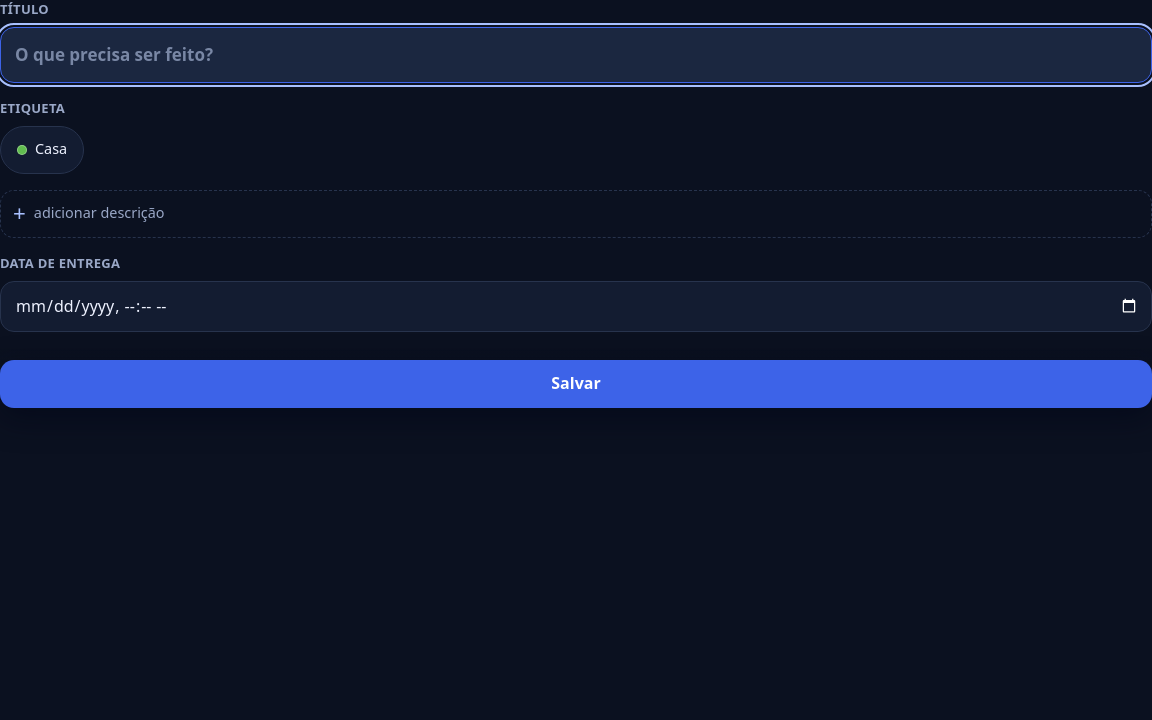
Test case: CardForm › confirmação antes de salvar › opens the dialog with title and board instead of saving (FR-006)
Type "Comprar leite" into the field labelled "Título" at {"x": 576, "y": 55}, box [0,27,1151,83]
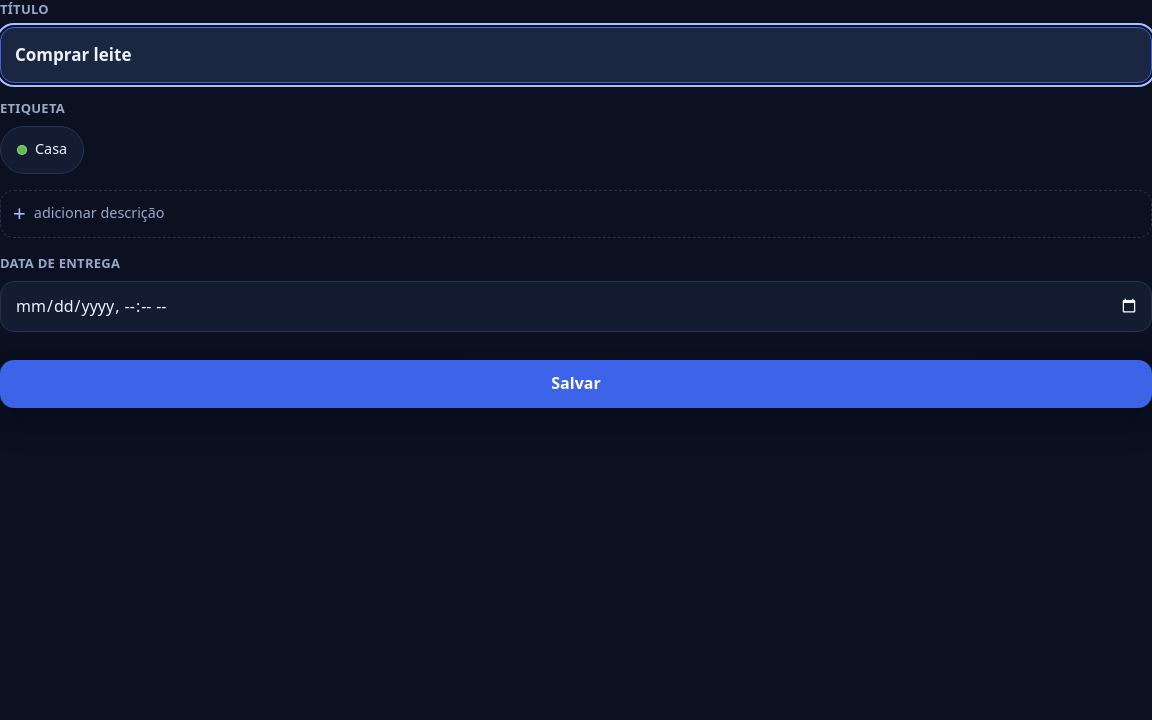
Click the button "Salvar" at {"x": 576, "y": 384}, box [0,360,1151,408]
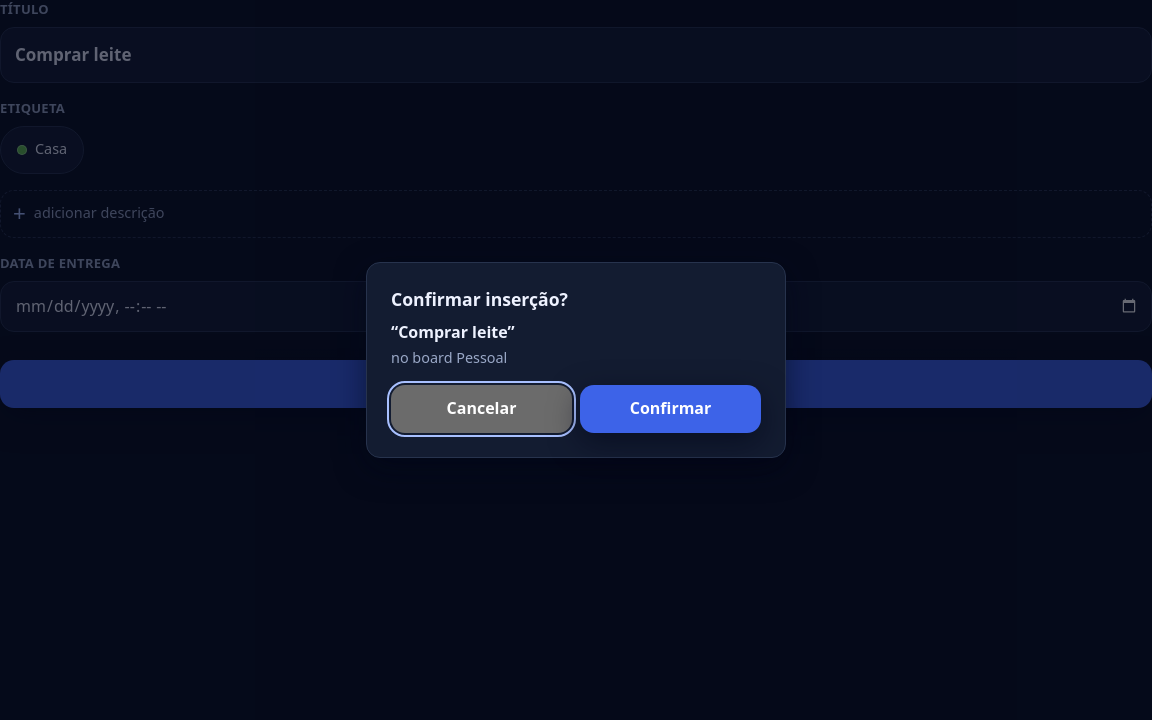
Result: the dialog is shown
Result: the text "“Comprar leite”" is shown at [391,321,515,343]
Result: the text "no board Pessoal" is shown at [391,348,507,367]
